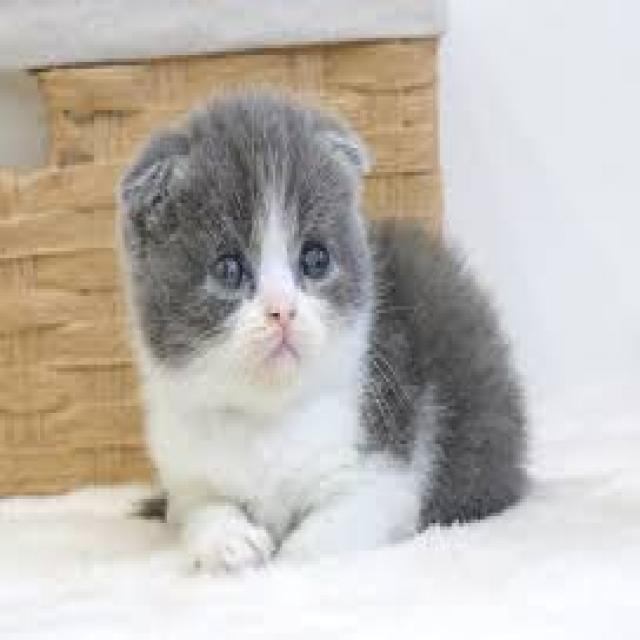cat-face: (104, 55, 381, 431)
